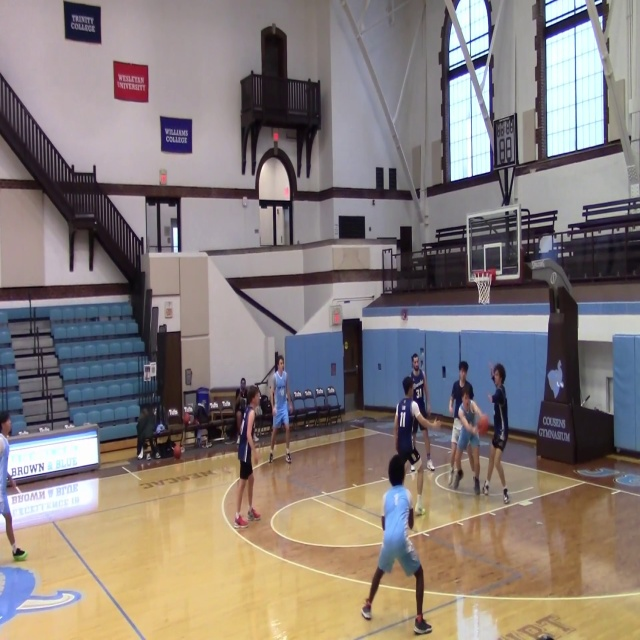Basketball: (476, 415, 489, 436), (173, 445, 181, 458), (183, 412, 192, 423)
